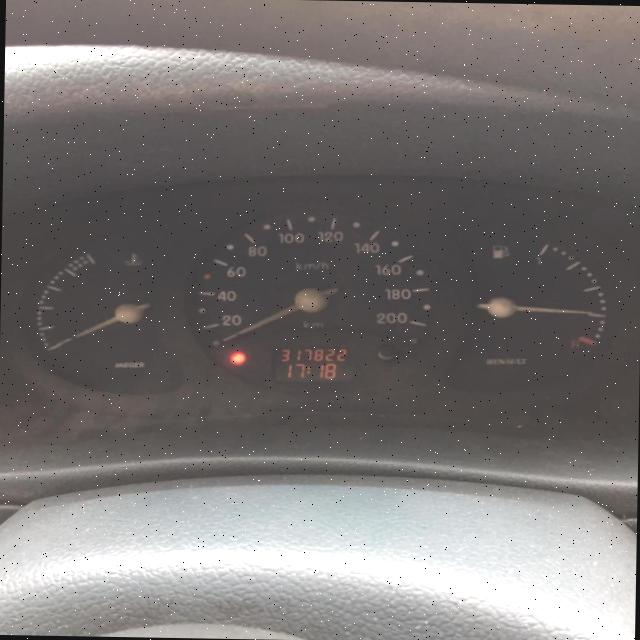odometer: (268, 342, 358, 383)
